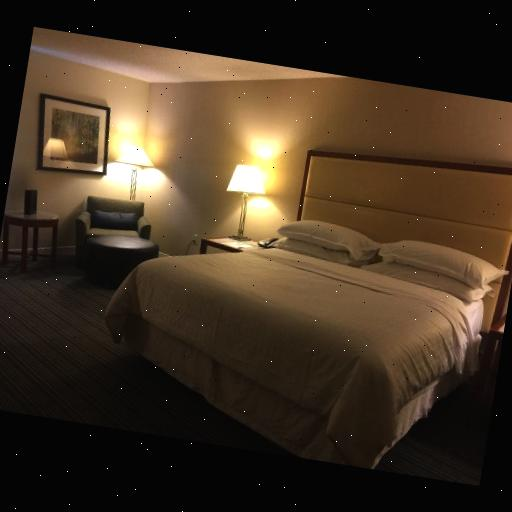chair: (75, 184, 154, 248)
clean_bed: (105, 150, 512, 478)
lamp: (104, 134, 167, 210), (216, 160, 270, 244)
organised_pillow: (267, 219, 501, 300)
organized table: (0, 186, 62, 269)
